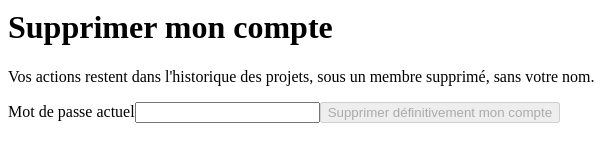
Test: suppression du compte depuis l'app (ADR 0015, ADR 0050 §3) › ne supprime rien tant qu'aucun mot de passe n'est saisi
The width and height of the screenshot is (611, 160).
In the password field labelled "Mot de passe actuel": (227, 112) [135,102,320,123], type "x"
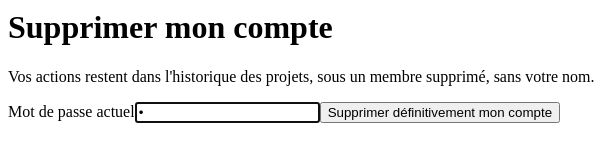
Clear the password field labelled "Mot de passe actuel": (227, 112) [135,102,320,123]
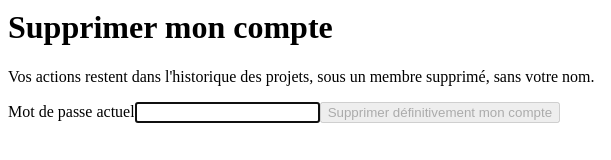
Check: the button "Supprimer définitivement mon compte" is disabled, box [320,102,560,123]
